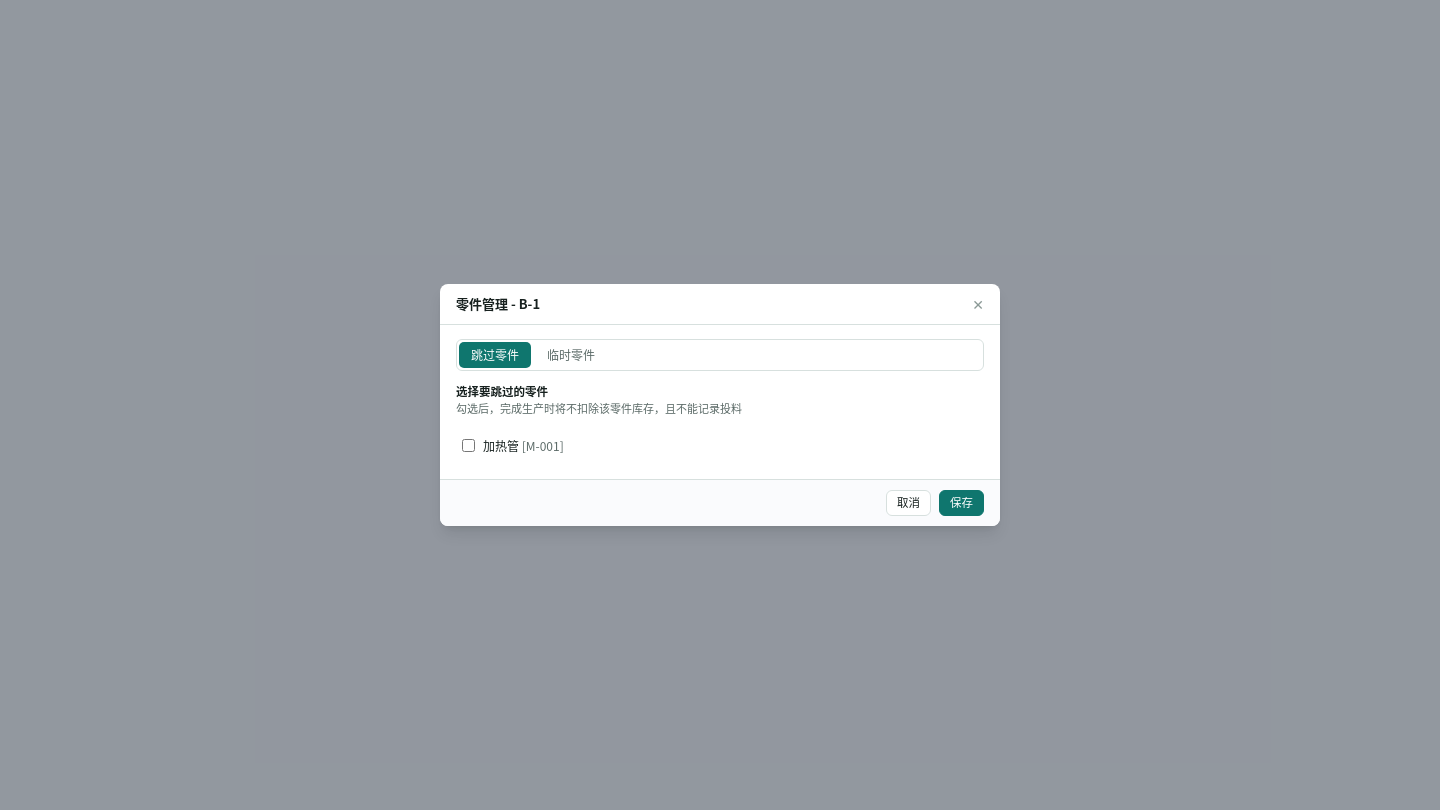
Test: shows the stock-shortage refusal from the server instead of closing silently
Click the tab "临时零件" at (571, 355), box [535,342,607,368]
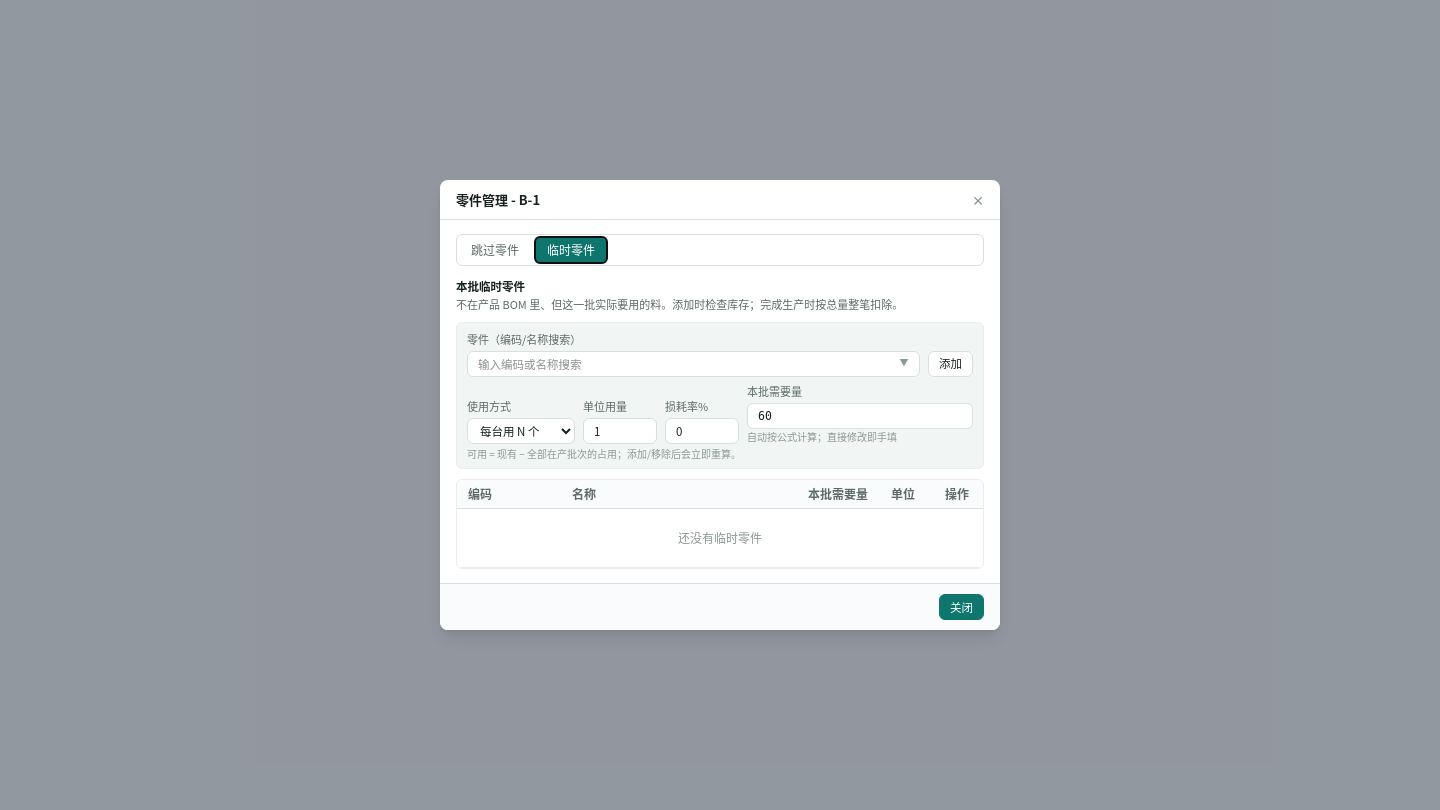
Type "M-002" into the dropdown named "临时零件" at (694, 364), box [467,351,920,377]
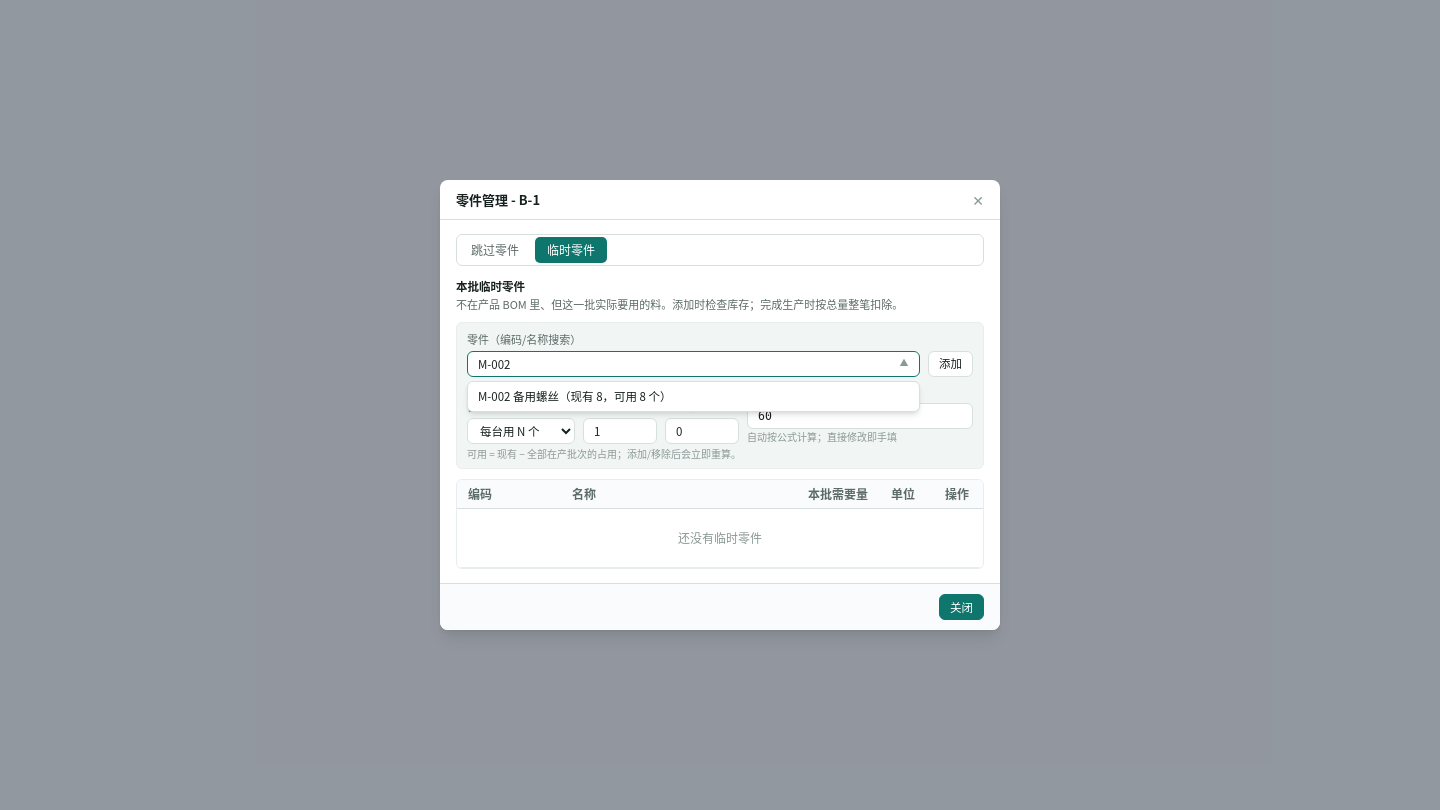
Click the option "M-002 备用螺丝（现有 8，可用 8 个）" at (575, 396), box [478,388,672,404]
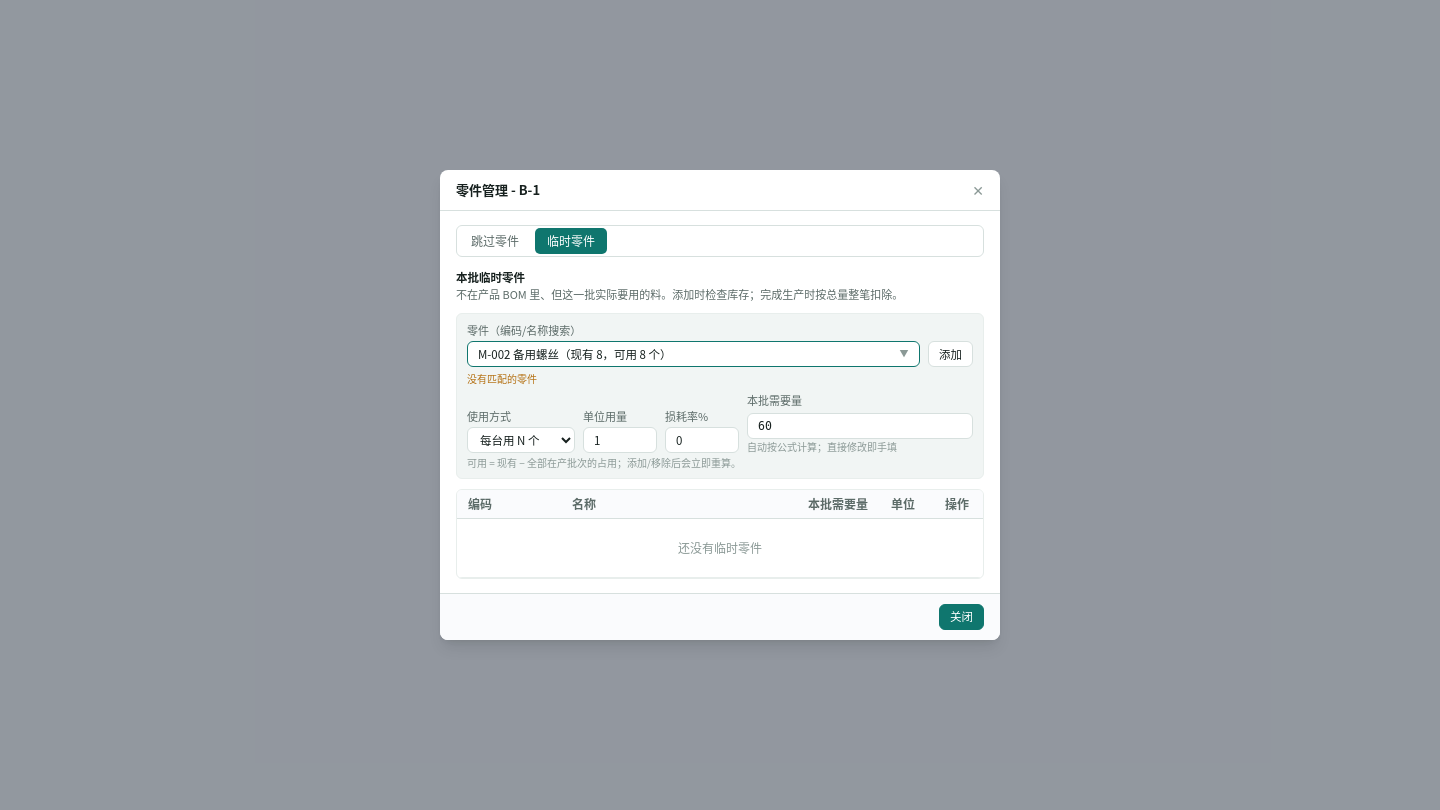
Replace the text in the 1st field with placeholder "自动" with "99" at (860, 426), box [747,413,973,439]
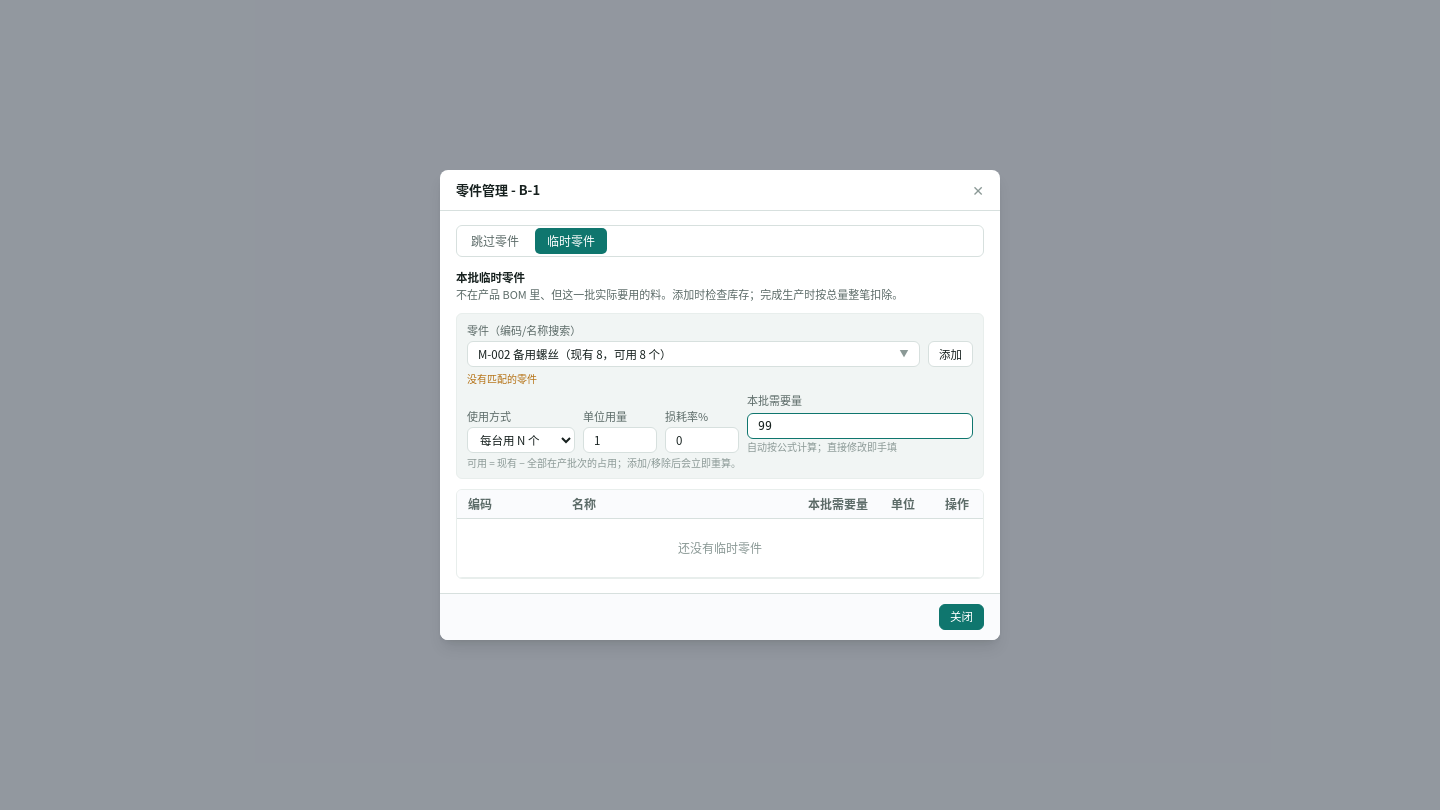
Click the button "添加" at (950, 354), box [928,341,973,367]
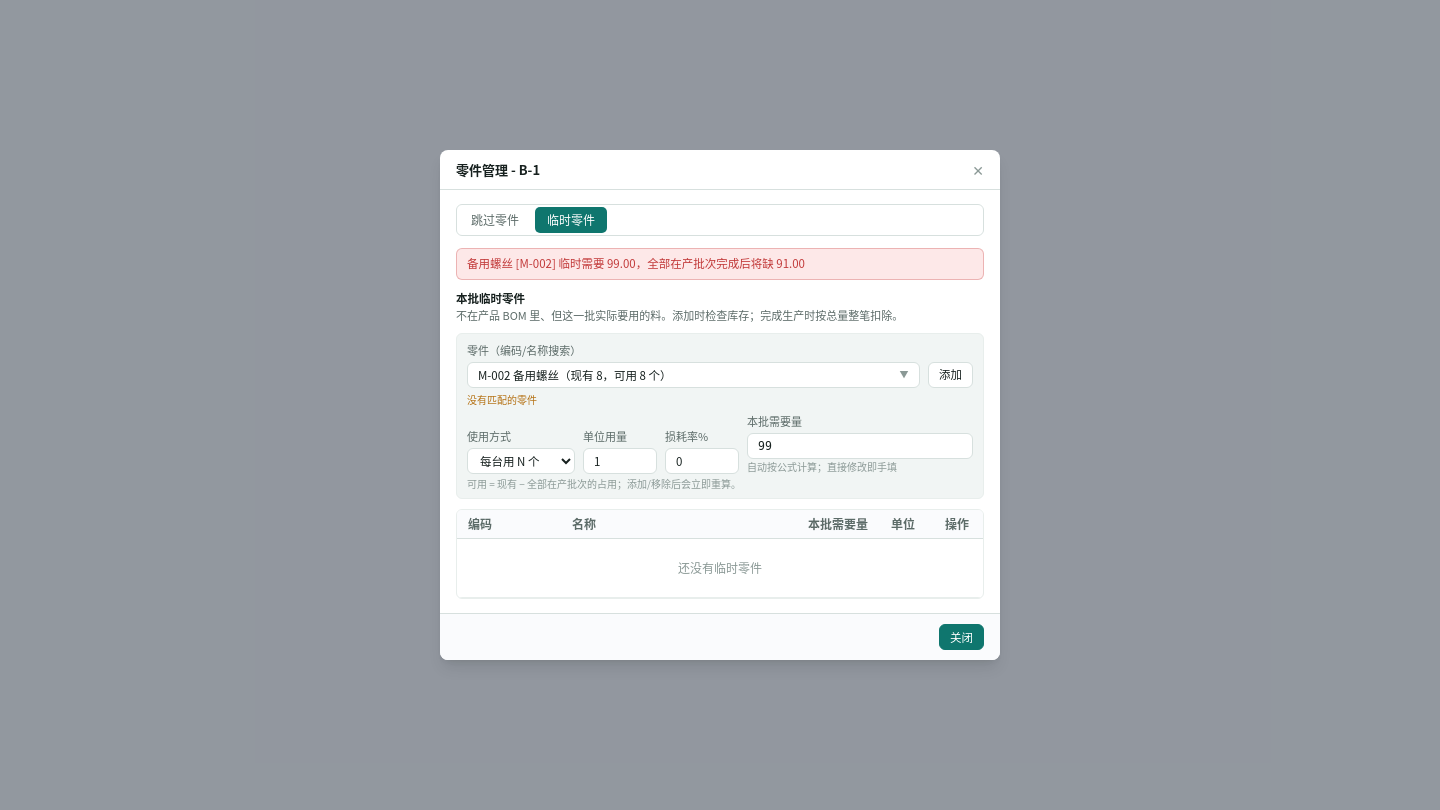
expect the text "备用螺丝 [M-002] 临时需要 99.00，全部在产批次完成后将缺 91.00" is shown: met, box [456,248,984,280]
